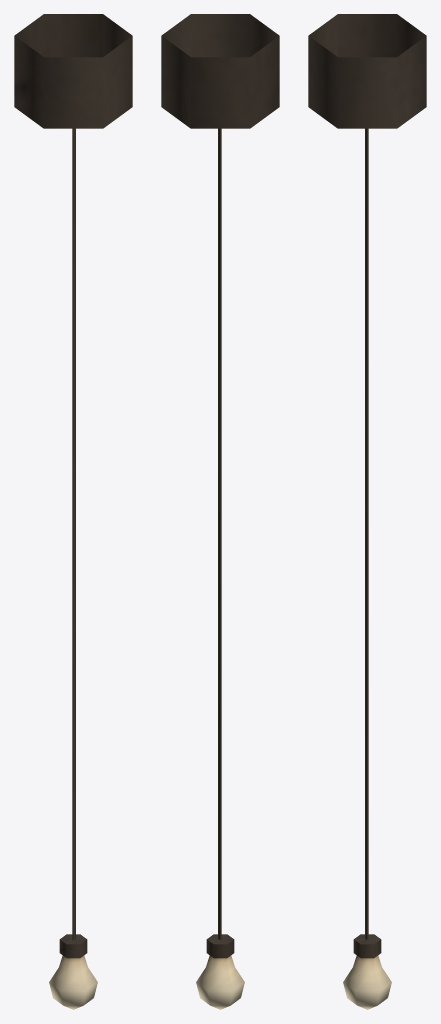
File: HangingLight_Swing.FBX
The picture shows the model from 3 angles, left to right: view 1: azimuth 30°, elevation 25°; view 2: azimuth 210°, elevation 25°; view 3: azimuth 330°, elevation 25°; orthographic projection.
Visible parts, largest first — view 1: HangingLight_Base, HangingLight_Wire; view 2: HangingLight_Base, HangingLight_Wire; view 3: HangingLight_Base, HangingLight_Wire.
Boxes of the visible parts, x1,y1,x2,y2 form: HangingLight_Base: [14, 14, 132, 128]; HangingLight_Wire: [49, 128, 97, 1009]; HangingLight_Base: [161, 14, 279, 128]; HangingLight_Wire: [196, 128, 244, 1009]; HangingLight_Base: [308, 14, 426, 128]; HangingLight_Wire: [343, 128, 391, 1009].
Bounding box in the file's own units: 13.21 × 139 × 15.25.
1 material, 1 textured.
